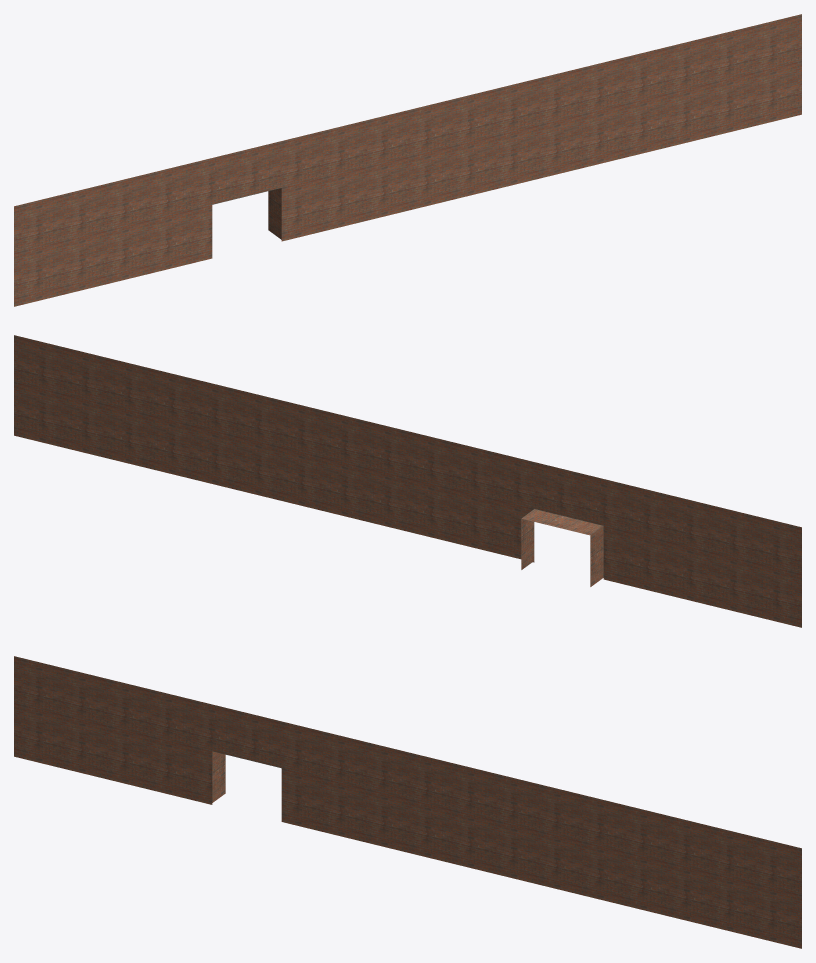
File: SueloEntrada.fbx
3 views of the same model, one above another, from view 1: azimuth 30°, elevation 25°; view 2: azimuth 150°, elevation 25°; view 3: azimuth 330°, elevation 25° (orthographic).
Visible parts, largest first — view 1: Cube.003; view 2: Cube.003; view 3: Cube.003.
Boxes of the visible parts, x1,y1,x2,y2 form: Cube.003: [14, 14, 801, 306]; Cube.003: [14, 335, 801, 627]; Cube.003: [14, 656, 801, 948].
Bounding box in the file's own units: 51.26 × 6.25 × 1.49.
Materials: 1 (1 with a texture image).
